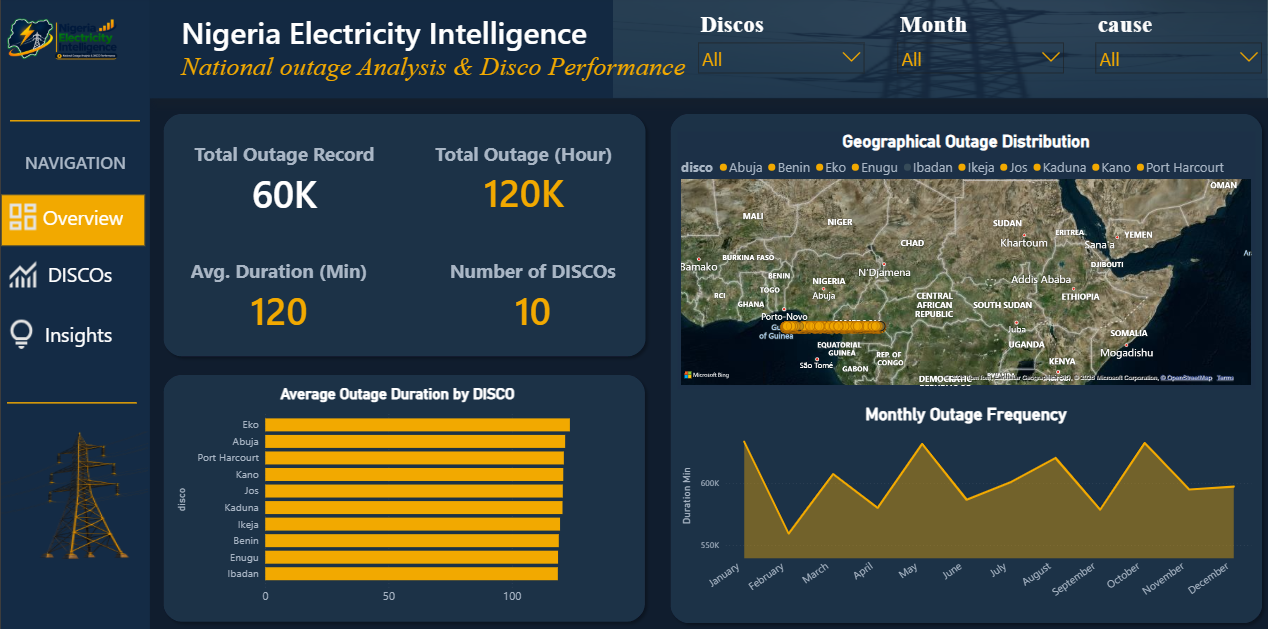

The page's visual inventory and layout, read from the dashboard file:
{"tool":"powerbi","page":{"name":"Page 1","canvas":[1800,900],"ordinal":0},"visuals":[{"type":"group","id":"g1","title":"KPI","box":[222,159.9,701.7,368],"z":0},{"type":"shape","box":[222,159.9,702.7,362.4],"z":0,"group":"g1"},{"type":"textbox","box":[0,0,211.2,900.7],"z":500,"group":"g4"},{"type":"image","box":[0,620.2,208.5,186.9],"z":750,"group":"g4"},{"type":"shape","box":[8.1,560.6,184.2,37.9],"z":875,"group":"g4"},{"type":"image","box":[0,0,172.7,127.7],"z":1000,"group":"g4"},{"type":"image","box":[869.7,0,931.1,146.1],"z":1000},{"type":"cardVisual","fields":{"Data":["nigeria_energy_outage.Number of DISCOs"]},"box":[604.2,353.9,298.1,146.9],"z":1000,"group":"g5"},{"type":"group","id":"g2","title":"Group 2","box":[222,530.7,701.7,368.6],"z":1000},{"type":"textbox","box":[210.9,0,1587.5,146.4],"z":2000},{"type":"shape","box":[13.3,159.7,184.5,37.7],"z":2000,"group":"g4"},{"type":"group","id":"g3","title":"Group 3","box":[941.2,159.7,858.1,741],"z":2000},{"type":"cardVisual","fields":{"Data":["nigeria_energy_outage.Total_outage"]},"box":[243.1,190.7,317.5,138.9],"z":2000,"group":"g5"},{"type":"slicer","fields":{"Values":["nigeria_energy_outage.cause"]},"box":[1543.9,17,255.9,106.5],"z":2500},{"type":"slicer","fields":{"Values":["nigeria_energy_outage.start_time.Variation.Date Hierarchy.Month"]},"box":[1261.7,17,255.9,106.5],"z":2750},{"type":"group","id":"g4","title":"Group 4","box":[0,0,211.2,900.7],"z":3000},{"type":"slicer","fields":{"Values":["nigeria_energy_outage.disco"]},"box":[978.7,17,255.9,106.5],"z":3000},{"type":"cardVisual","fields":{"Data":["nigeria_energy_outage.Average Output Duration"]},"box":[238,353.9,310.9,146.9],"z":3000,"group":"g5"},{"type":"shape","box":[222,530.7,701.7,368.6],"z":3000,"group":"g2"},{"type":"shape","box":[941.2,159.7,858.1,741],"z":4000,"group":"g3"},{"type":"cardVisual","fields":{"Data":["nigeria_energy_outage.Total Outage Duration"]},"box":[576.6,189.4,330,143],"z":4000,"group":"g5"},{"type":"actionButton","box":[0,449.6,197.7,65],"z":4001,"group":"g4"},{"type":"areaChart","title":"Monthly Outage Frequency","fields":{"Category":["nigeria_energy_outage.start_time.Variation.Date Hierarchy.Month"],"Y":["Sum(nigeria_energy_outage.duration_min)"]},"box":[959.5,581,819.5,296],"z":6000,"group":"g3"},{"type":"barChart","title":"Average Outage Duration by DISCO","fields":{"Y":["Avg(nigeria_energy_outage.duration_min)"],"Category":["nigeria_energy_outage.disco"]},"box":[242.4,553.7,640.2,321.5],"z":7000,"group":"g2"},{"type":"actionButton","box":[2.4,363.2,195.6,64.3],"z":8000,"group":"g4"},{"type":"shape","box":[0,284,204.5,73.2],"z":8250,"group":"g4"},{"type":"actionButton","box":[2,283.4,196.2,63.9],"z":8500,"group":"g4"},{"type":"map","title":"Geographical Outage Distribution","fields":{"Series":["nigeria_energy_outage.disco"],"Y":["nigeria_energy_outage.lat"],"X":["nigeria_energy_outage.lon"],"Size":["nigeria_energy_outage.Total_outage"]},"box":[959.5,194.3,819.5,365.1],"z":9000,"group":"g3"},{"type":"group","id":"g5","title":"Group 1","box":[238,189.4,668.6,311.5],"z":9002,"group":"g1"}]}

Visuals, with their boxes in screenshot pixels (x1, y1, x2, y2), scaled from the page's 1800x900 canvas onto the 1268x629 screenshot:
"KPI" group: rect(156, 112, 651, 369)
shape: rect(156, 112, 651, 365)
textbox: rect(0, 0, 149, 628)
image: rect(0, 433, 147, 564)
shape: rect(6, 392, 135, 418)
image: rect(0, 0, 122, 89)
image: rect(613, 0, 1267, 102)
cardVisual - nigeria_energy_outage.Number of DISCOs: rect(426, 247, 636, 350)
"Group 2" group: rect(156, 371, 651, 628)
textbox: rect(149, 0, 1267, 102)
shape: rect(9, 112, 139, 138)
"Group 3" group: rect(663, 112, 1267, 628)
cardVisual - nigeria_energy_outage.Total_outage: rect(171, 133, 395, 230)
slicer - nigeria_energy_outage.cause: rect(1088, 12, 1267, 86)
slicer - nigeria_energy_outage.start_time.Variation.Date Hierarchy.Month: rect(889, 12, 1069, 86)
"Group 4" group: rect(0, 0, 149, 628)
slicer - nigeria_energy_outage.disco: rect(689, 12, 870, 86)
cardVisual - nigeria_energy_outage.Average Output Duration: rect(168, 247, 387, 350)
shape: rect(156, 371, 651, 628)
shape: rect(663, 112, 1267, 628)
cardVisual - nigeria_energy_outage.Total Outage Duration: rect(406, 132, 639, 232)
actionButton: rect(0, 314, 139, 360)
"Monthly Outage Frequency" areaChart: rect(676, 406, 1253, 613)
"Average Outage Duration by DISCO" barChart: rect(171, 387, 622, 612)
actionButton: rect(2, 254, 139, 299)
shape: rect(0, 198, 144, 250)
actionButton: rect(1, 198, 140, 243)
"Geographical Outage Distribution" map: rect(676, 136, 1253, 391)
"Group 1" group: rect(168, 132, 639, 350)
